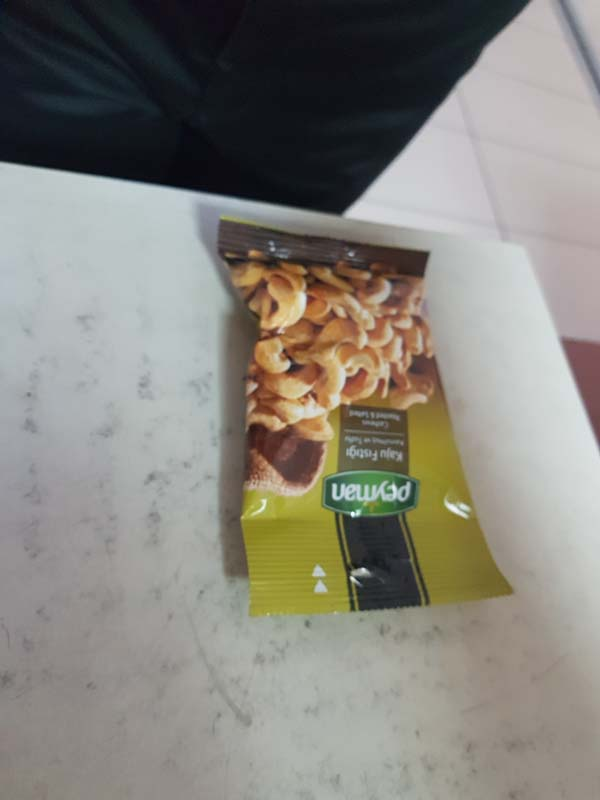kajupeyman: (214, 214, 528, 619)
